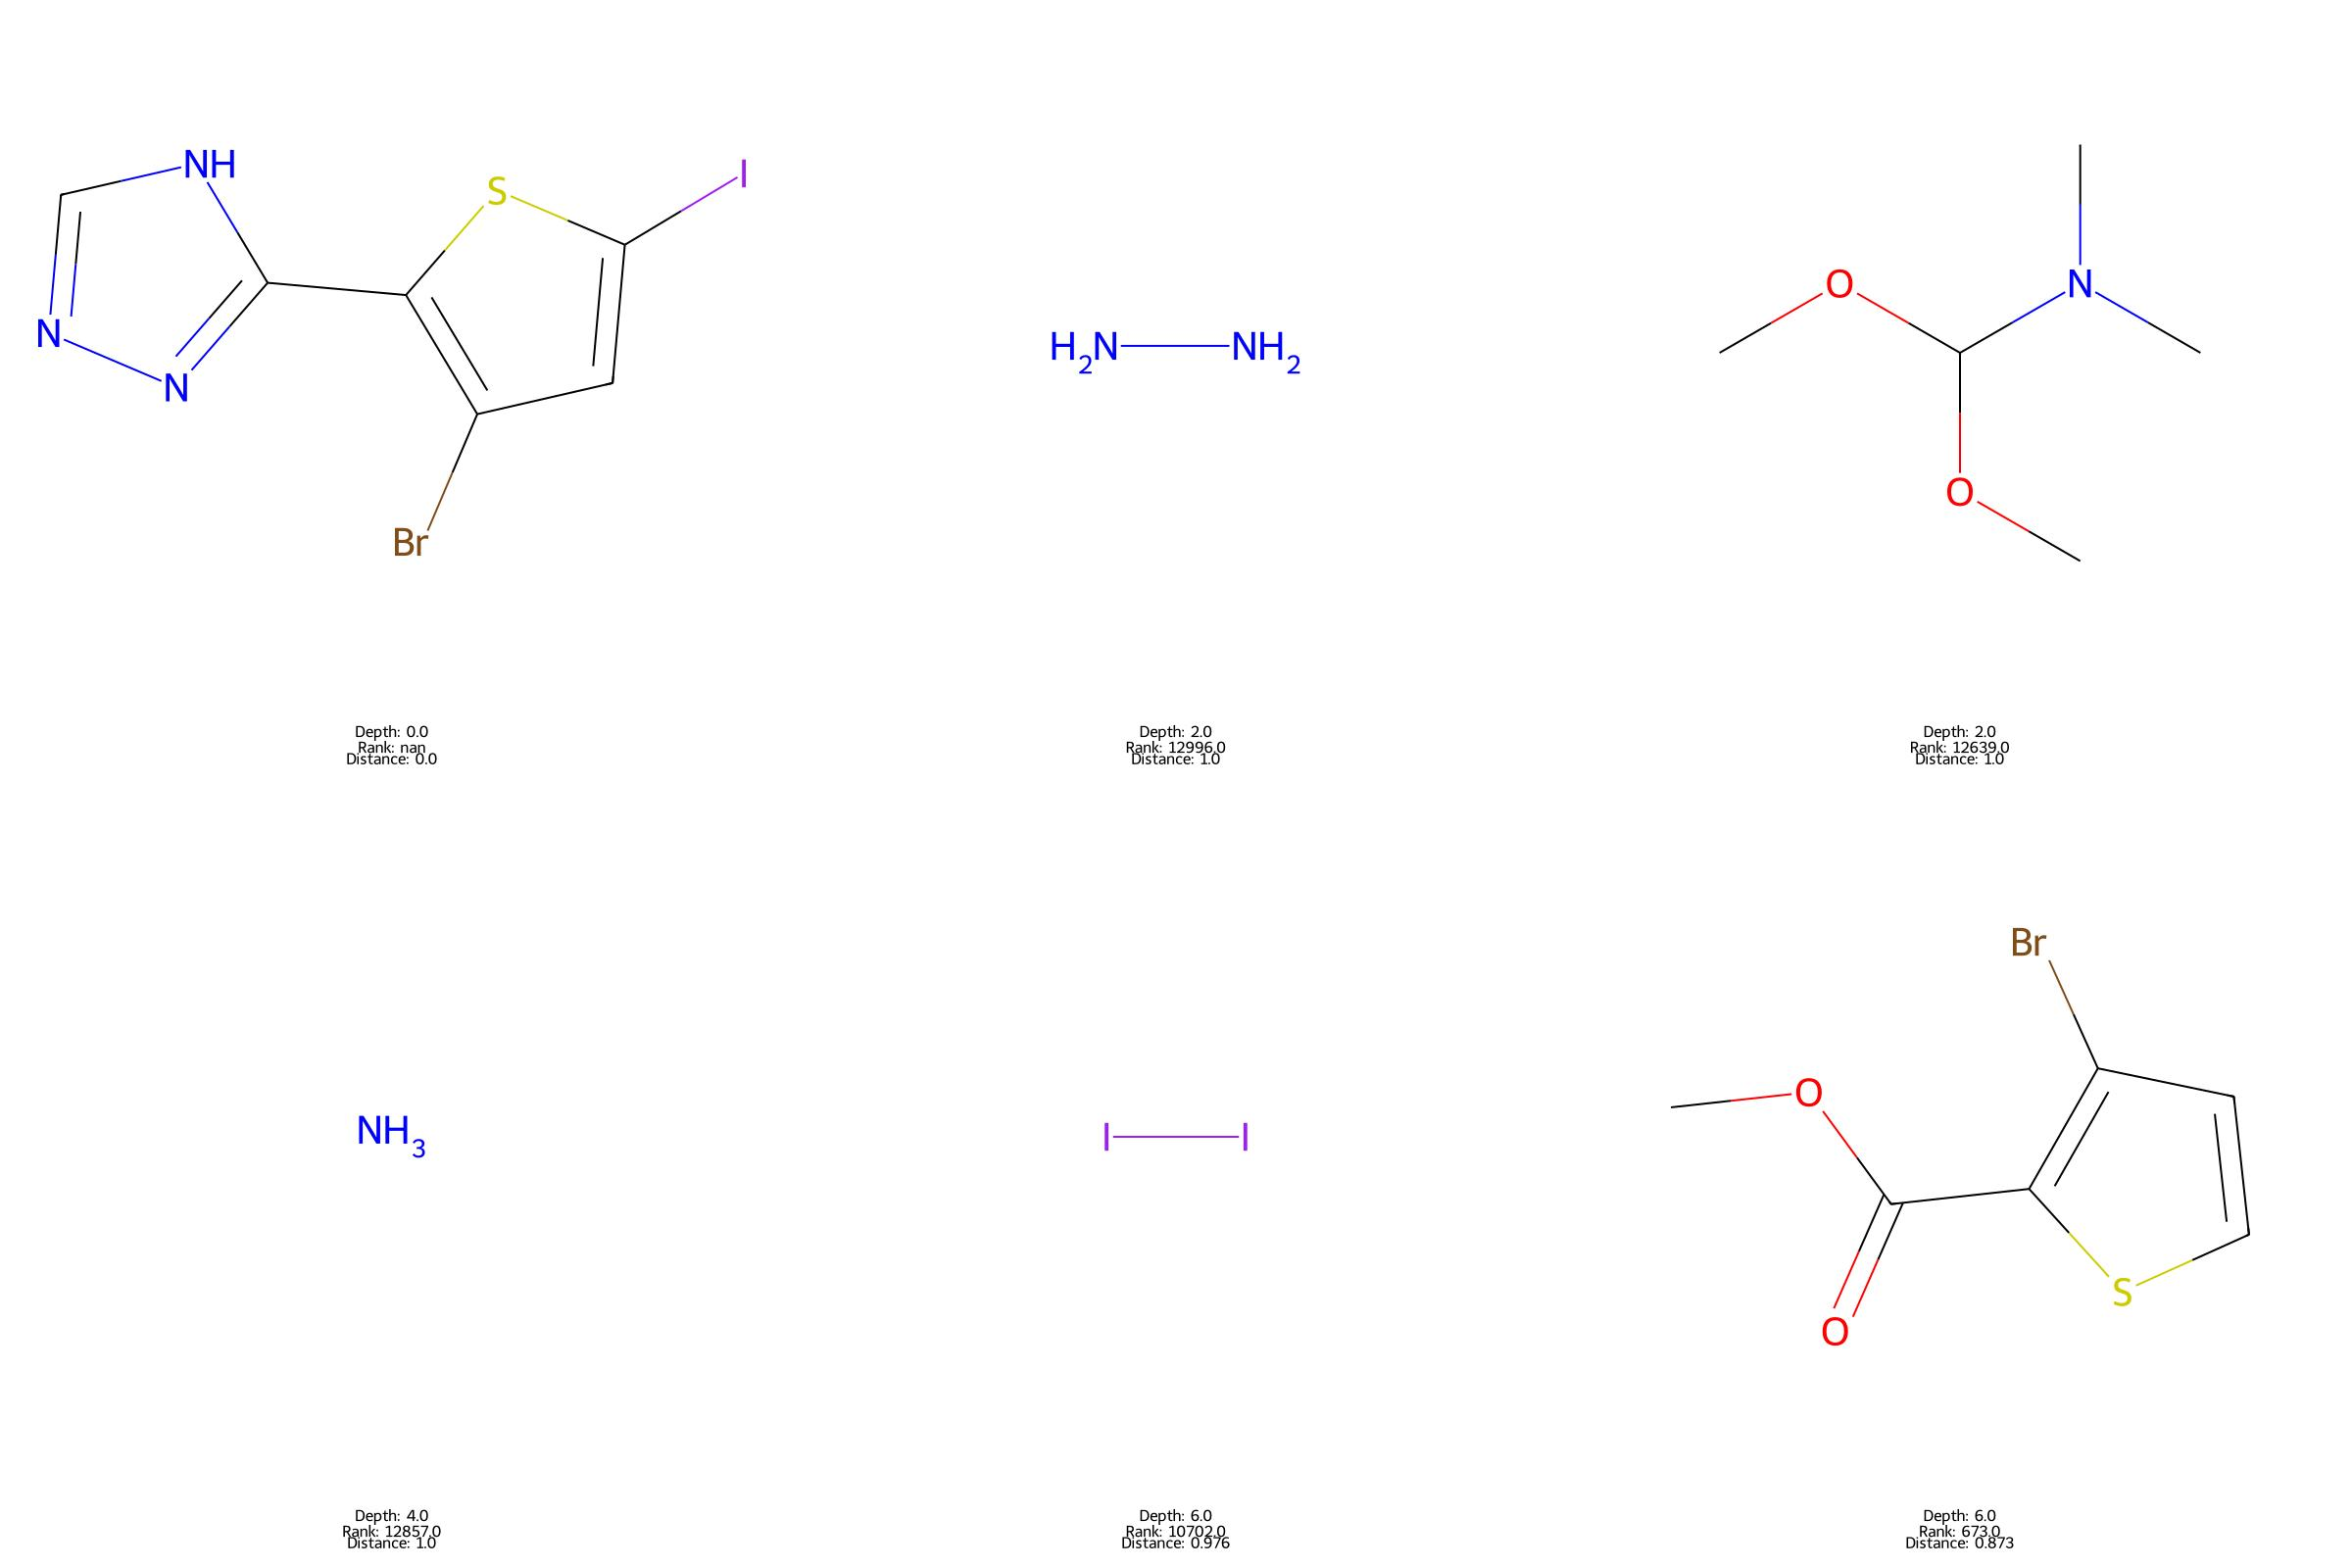

This screenshot's page, from the dashboard's own definition file:
{"tool":"tableau","page":{"name":"Dashboard 1","canvas":[1100,700],"ordinal":0},"visuals":[{"type":"filter","title":"DistanceFromNN_vs_RouteCost","param":"[federated.166hnh41csky131abg47n0lqwwno].[none:Table Name:nk]","box":[8,8,748,70]},{"type":"legend","title":"DistanceFromNN_vs_RouteCost","param":"[federated.166hnh41csky131abg47n0lqwwno].[attr:is_purchasable (Union):ok]","box":[756,8,163,84.6]},{"type":"legend","title":"DistanceFromNN_vs_RouteCost","param":"[federated.166hnh41csky131abg47n0lqwwno].[none:Calculation_2003468545379385345:n","box":[919,8,173,84.6]},{"type":"worksheet","title":"DistanceFromNN_vs_RouteCost","mark":"Shape","rows":["Tanimoto-distance (Union)","Tanimoto-distance-EXP (Union)","Tanimoto-distance-SQRT (Union)","Calculation_2327164768729616384"],"cols":["lowest_cost_route_(binned) (Union)"],"box":[8,92.6,543,599.4]},{"type":"worksheet","title":"DistanceFromNN_vs_RouteDepth","mark":"Shape","rows":["Tanimoto-distance (Union)","Tanimoto-distance-EXP (Union)","Tanimoto-distance-SQRT (Union)","Calculation_2327164768729616384"],"cols":["lowest_depth_route_found (Union)"],"box":[551,92.6,541,599.4]}]}

Visuals, with their boxes on the page's 1100x700 design canvas (x1, y1, x2, y2). These are canvas units, not pixel positions in the 2352x1568 screenshot, which may show the page scaled, cropped or inside an application window:
"DistanceFromNN_vs_RouteCost" filter: 8 8 756 78
"DistanceFromNN_vs_RouteCost" legend: 756 8 919 93
"DistanceFromNN_vs_RouteCost" legend: 919 8 1092 93
"DistanceFromNN_vs_RouteCost" worksheet (Shape marks): 8 93 551 692
"DistanceFromNN_vs_RouteDepth" worksheet (Shape marks): 551 93 1092 692
